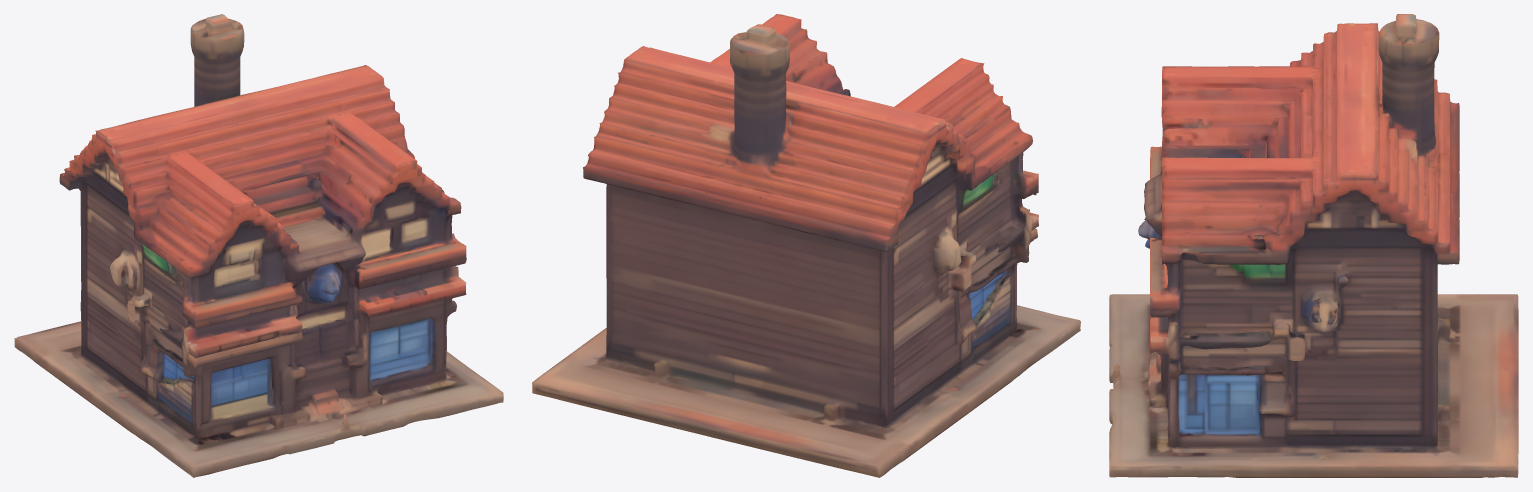
File: base_basic_shaded.fbx
The picture shows the model from 3 angles, left to right: view 1: azimuth 30°, elevation 25°; view 2: azimuth 150°, elevation 25°; view 3: azimuth 270°, elevation 25°; orthographic projection. The views are drawn at different scales.
Visible parts, largest first — view 1: model; view 2: model; view 3: model.
Boxes of the visible parts, left/top/right/bottom form: model: left=14, top=14, right=503, bottom=477; model: left=532, top=14, right=1080, bottom=477; model: left=1109, top=14, right=1518, bottom=477.
Bounding box in the file's own units: 190 × 191 × 190.
